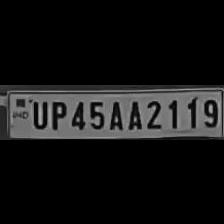1: (164, 96, 181, 128), (182, 96, 198, 128)
2: (142, 97, 164, 129)
4: (68, 97, 86, 128)
5: (86, 97, 106, 128)
9: (199, 96, 219, 128)
A: (106, 96, 126, 130), (124, 97, 142, 129)
P: (47, 97, 66, 128)
U: (28, 97, 48, 128)
